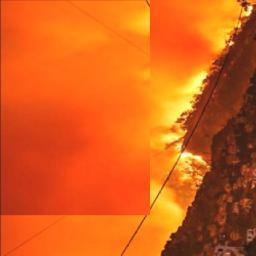Heavy smoke: (0, 0, 150, 213)
Medium fire: (150, 0, 256, 222)
